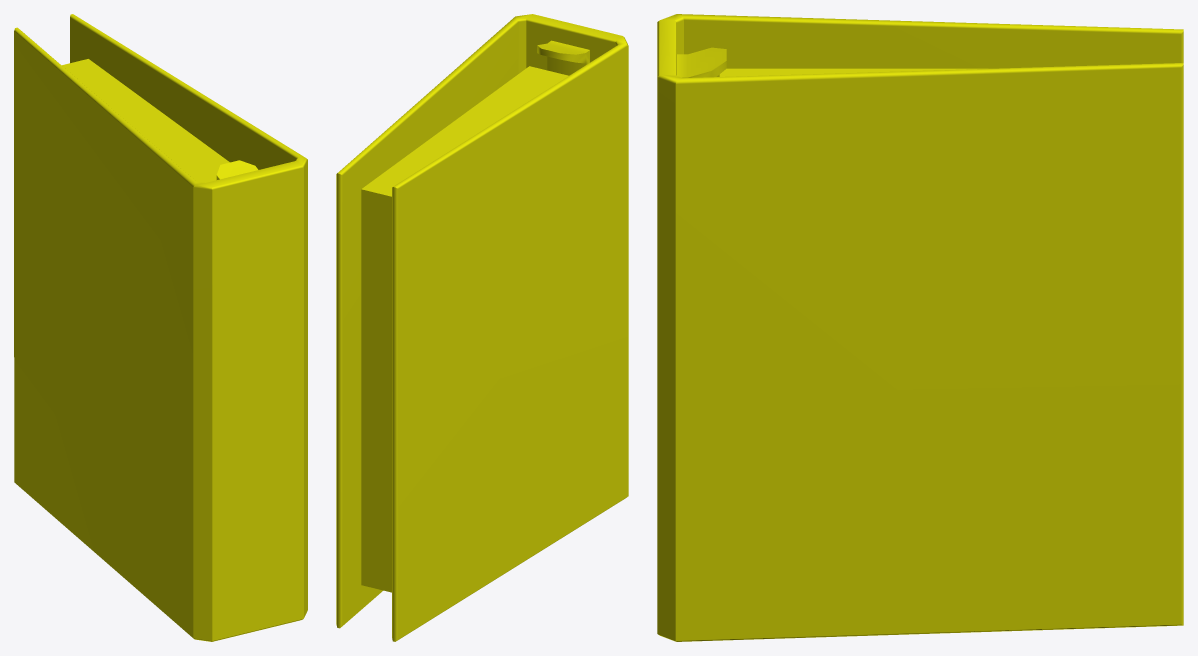
File: BinderClosed.fbx
The picture shows the model from 3 angles, left to right: view 1: azimuth 30°, elevation 25°; view 2: azimuth 150°, elevation 25°; view 3: azimuth 270°, elevation 25°; orthographic projection. The views are drawn at different scales.
Visible parts, largest first — view 1: ClosedBinder; view 2: ClosedBinder; view 3: ClosedBinder.
Part boxes in pixels (x1,y1,x2,y2): ClosedBinder: (14,14,307,641); ClosedBinder: (336,14,628,641); ClosedBinder: (657,14,1183,641).
Bounding box in the file's own units: 1.86 × 7.06 × 6.
